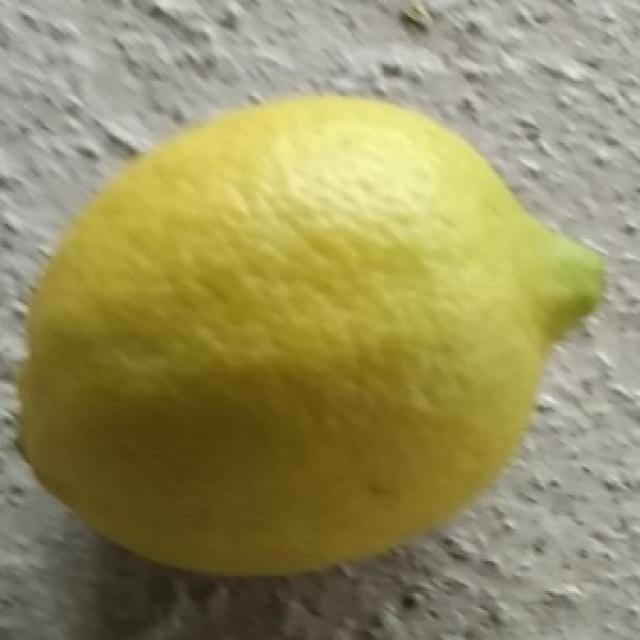Lemon: (12, 93, 610, 582)
